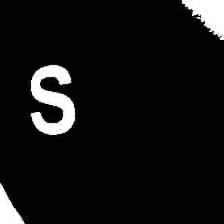LTR_S: (27, 59, 78, 137)
